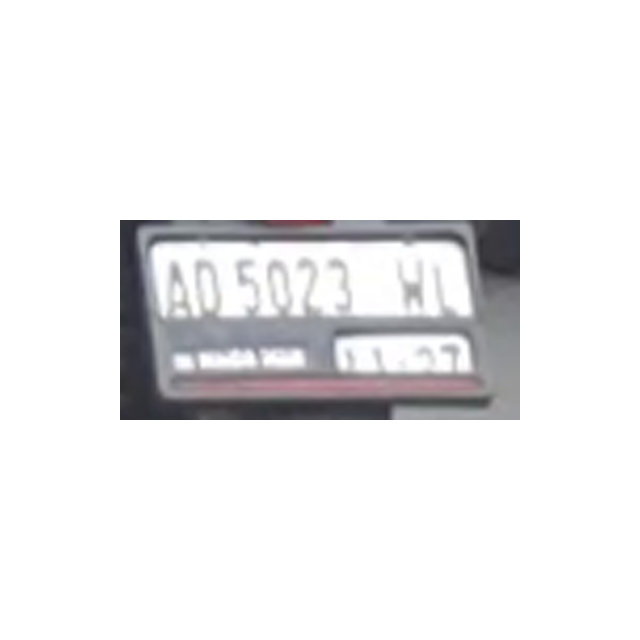contain: (398, 254, 432, 317), (430, 255, 462, 320), (261, 254, 294, 313), (231, 249, 259, 316), (195, 257, 225, 319), (162, 260, 192, 321), (296, 253, 324, 316), (328, 250, 356, 312)
